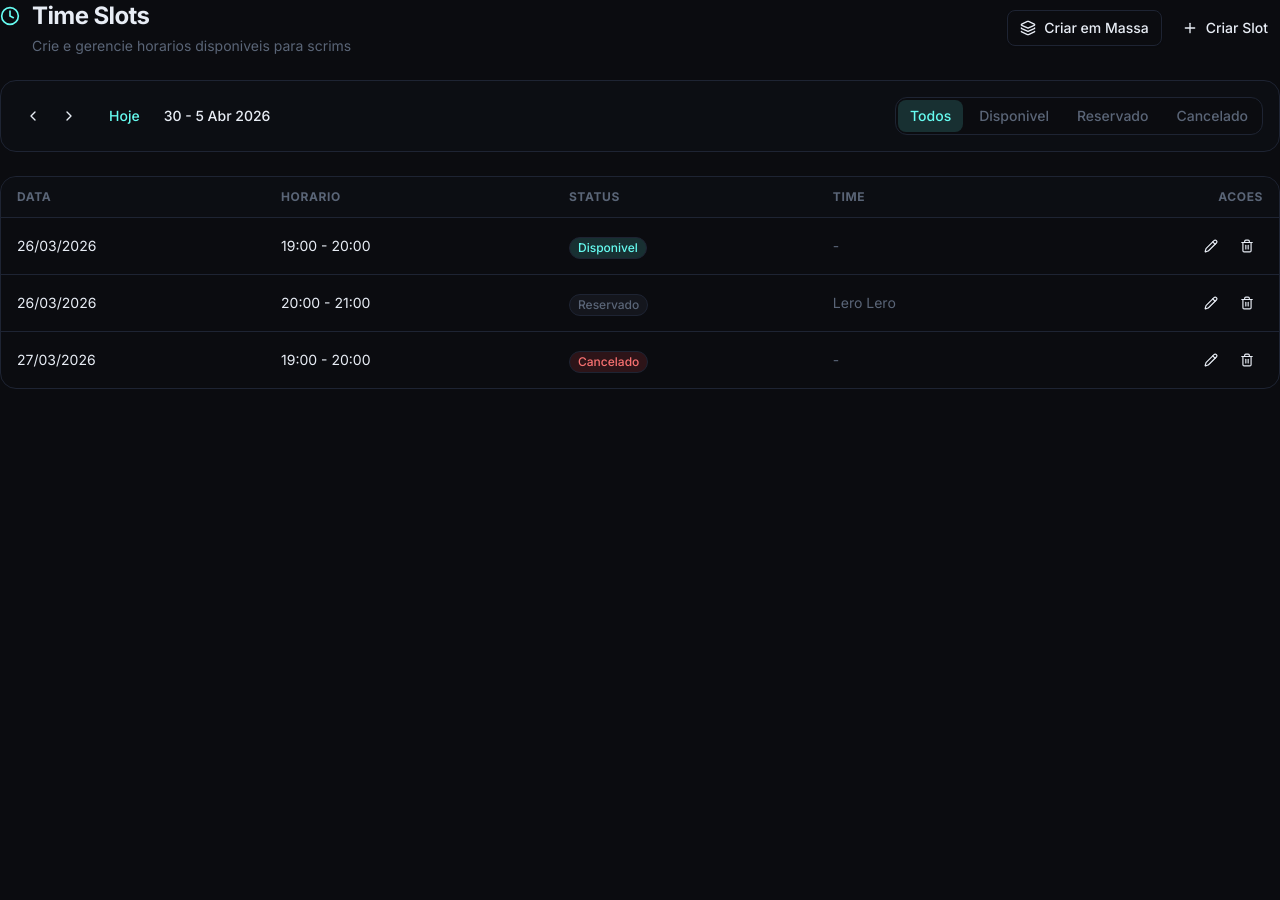
Test: AdminSlots › create slot dialog › opens create dialog when button is clicked
Step 1. Click the button "Criar Slot" → (1225,28), box [1170,10,1279,46]
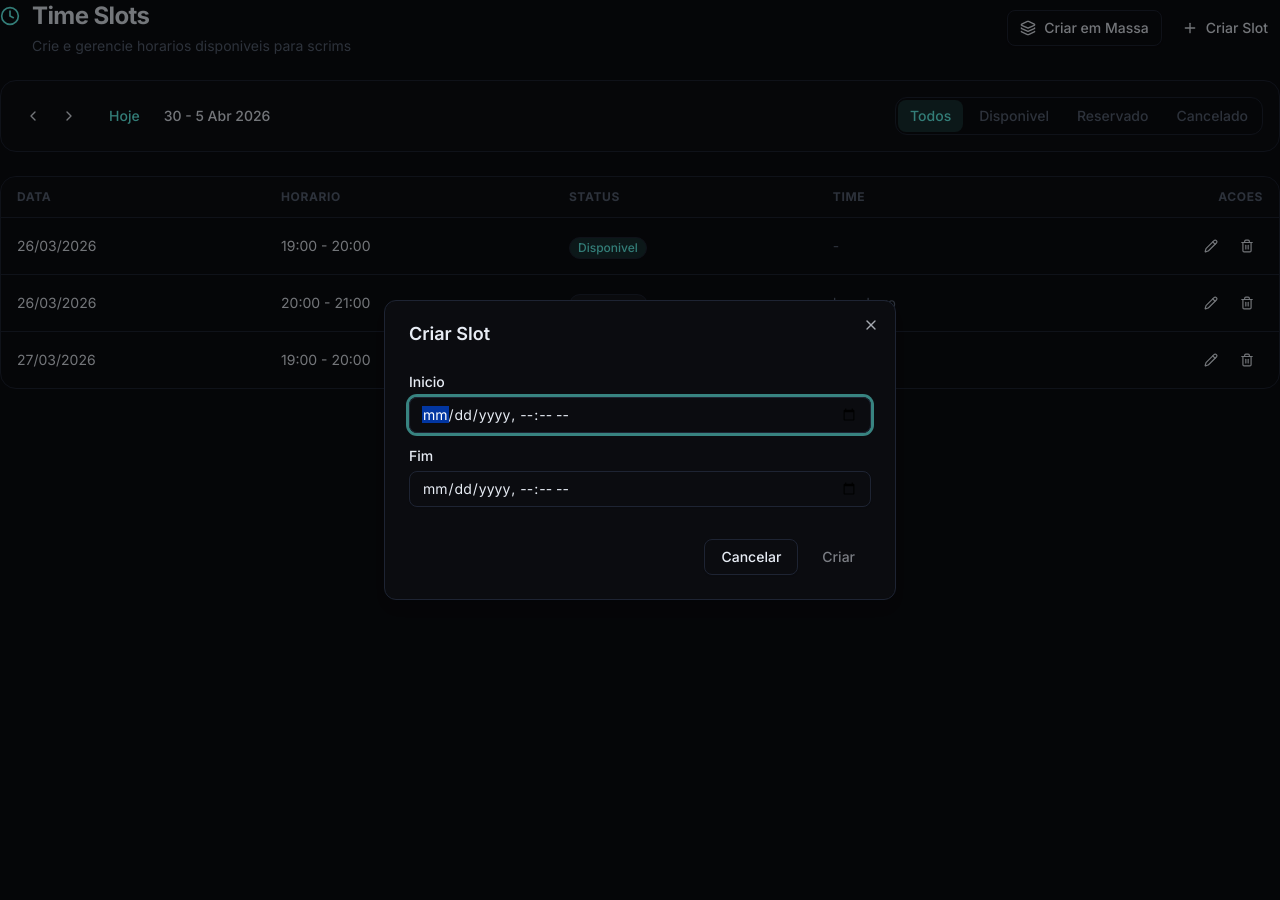
Expected: the heading "Criar Slot" is shown, [409,323,490,344]
Expected: the field labelled "Inicio" is shown, [409,397,871,433]
Expected: the field labelled "Fim" is shown, [409,471,871,507]
